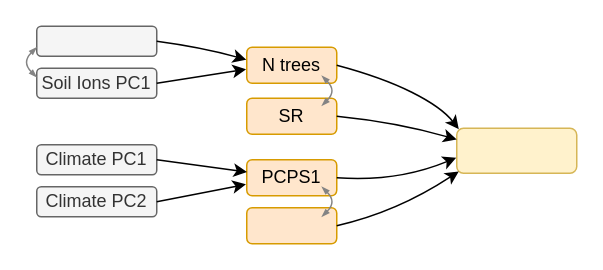
Some shapes in this 603 by 270 pixel diagram are drawn without their labels. The centre of each missing label's shape, as x and y in pixels:
Biomass: the point at 516,150
PSE: the point at 291,225
Soil C:N: the point at 96,40
